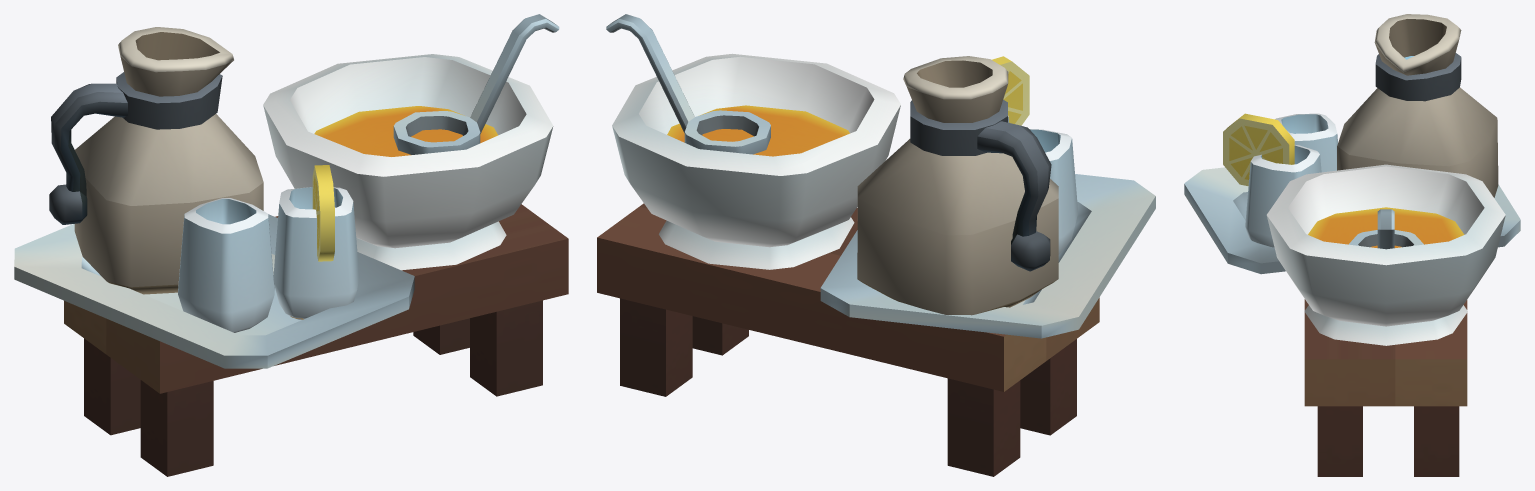
The model's file is bench_drinks_soup.fbx.
3 renders of one model, left to right at view 1: azimuth 30°, elevation 25°; view 2: azimuth 150°, elevation 25°; view 3: azimuth 270°, elevation 25°, orthographic. The views are drawn at different scales.
Parts seen in each view (by area): view 1: bench_drinks_soup; view 2: bench_drinks_soup; view 3: bench_drinks_soup.
Boxes of the visible parts, bbox=[...] form: bench_drinks_soup: bbox=[14, 14, 568, 476]; bench_drinks_soup: bbox=[597, 14, 1155, 476]; bench_drinks_soup: bbox=[1184, 14, 1520, 476].
Size of the model in its own units: 124 by 87.24 by 84.21.
